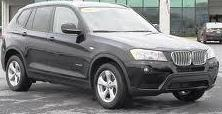front_view: (128, 39, 221, 95)
headlight: (128, 45, 171, 65)
side_glass: (14, 5, 84, 36)
